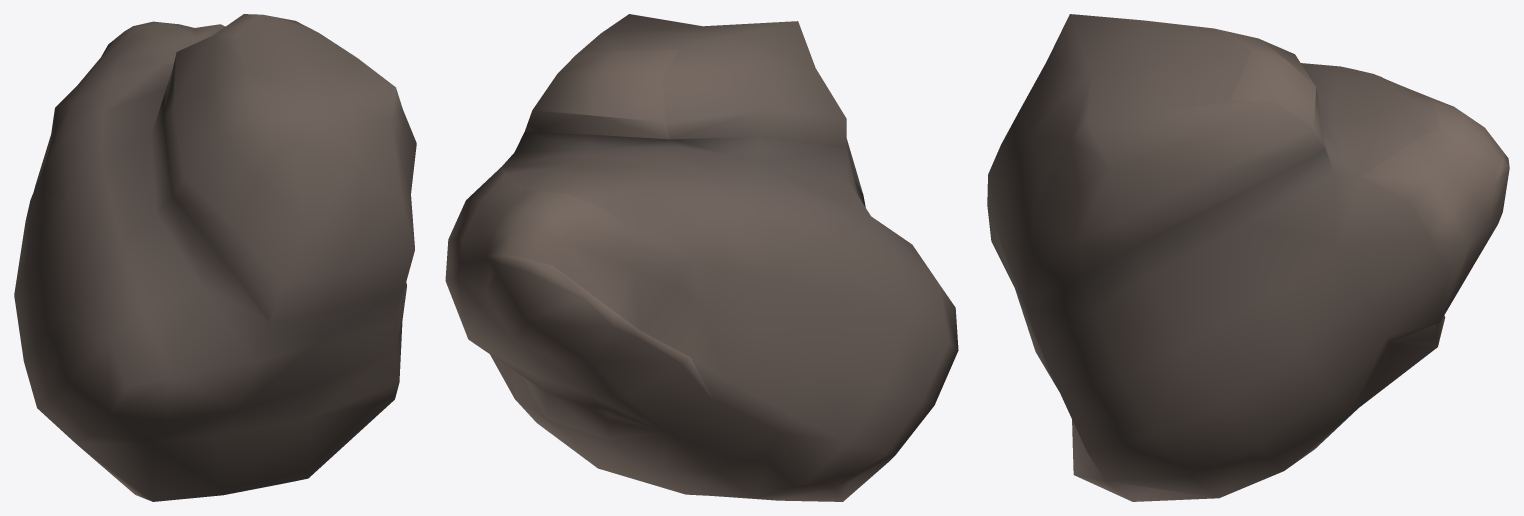
File: SlantedRock.007.glb
3 renders of one model, left to right at view 1: azimuth 30°, elevation 25°; view 2: azimuth 150°, elevation 25°; view 3: azimuth 270°, elevation 25°, orthographic. The views are drawn at different scales.
Visible parts, largest first — view 1: SlantedRock.007; view 2: SlantedRock.007; view 3: SlantedRock.007.
Part boxes in pixels (<box>): SlantedRock.007: <box>14,14,416,501</box>; SlantedRock.007: <box>445,14,958,501</box>; SlantedRock.007: <box>987,14,1509,501</box>.
Size of the model in its own units: 1080 by 1215 by 1224.
